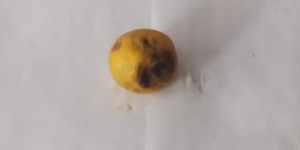BAD: (105, 27, 178, 99)
